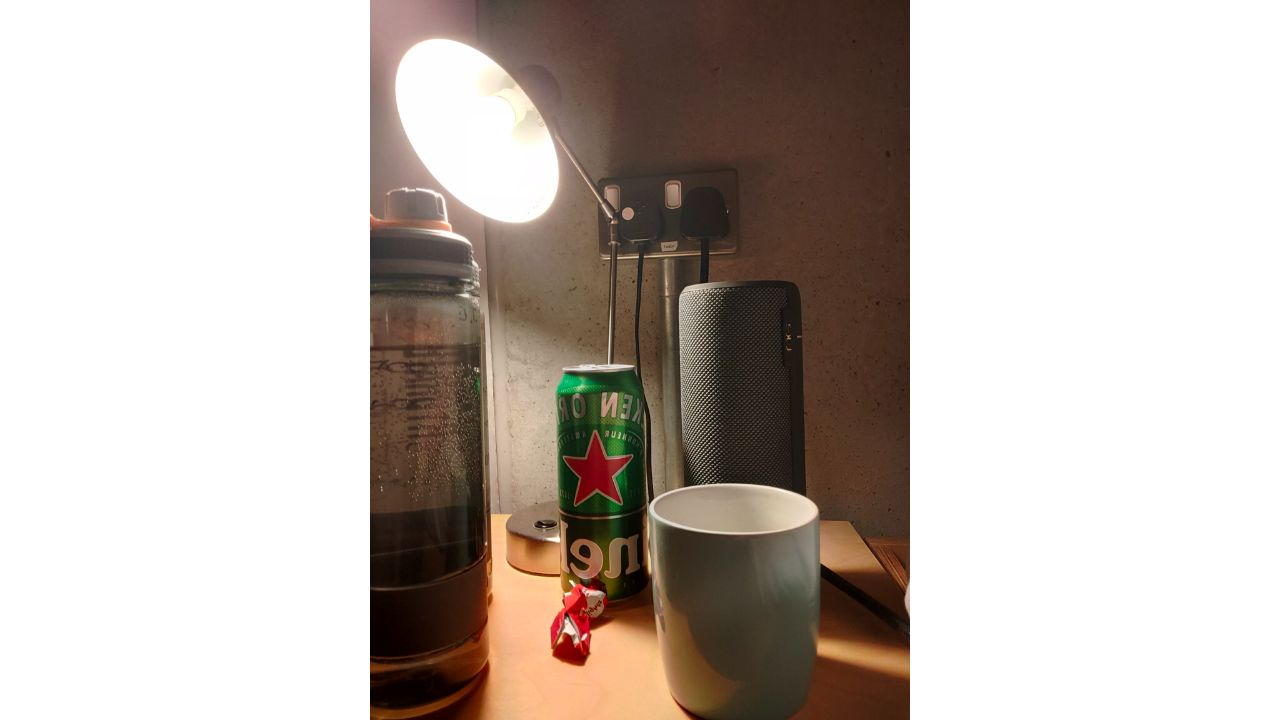Can: (557, 364, 654, 609)
